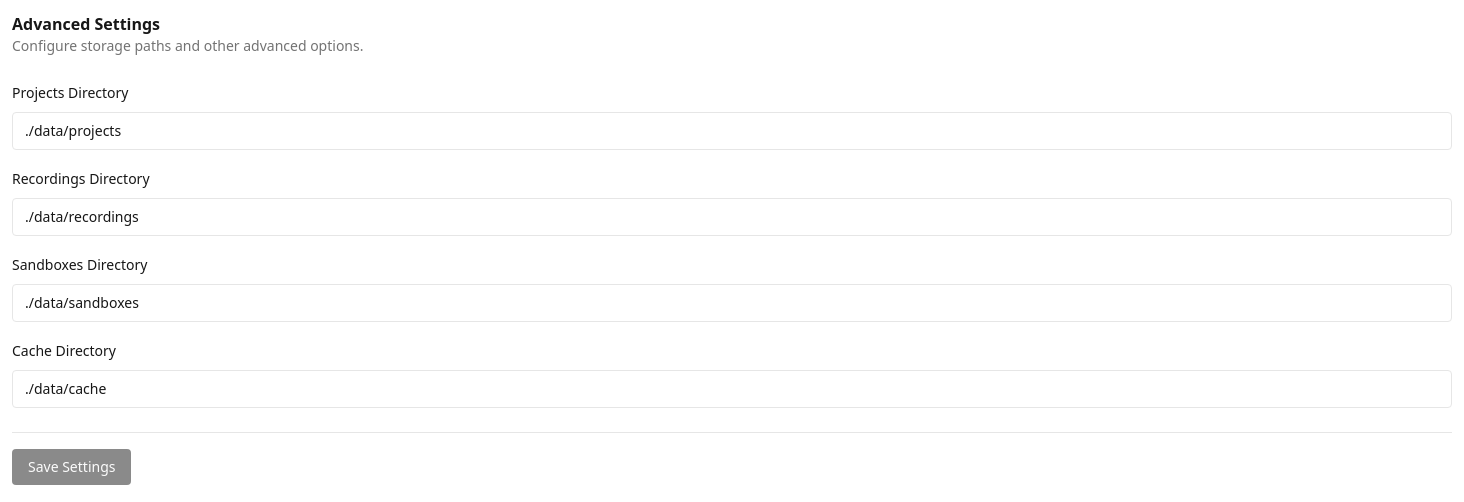
Test: AdvancedSection › should enable Save button when a path is changed
The image size is (1464, 502).
Replace the text in the field below "Projects Directory" with "/new/path". click: coordinates (732, 131)
box: 12,112 -> 1452,150
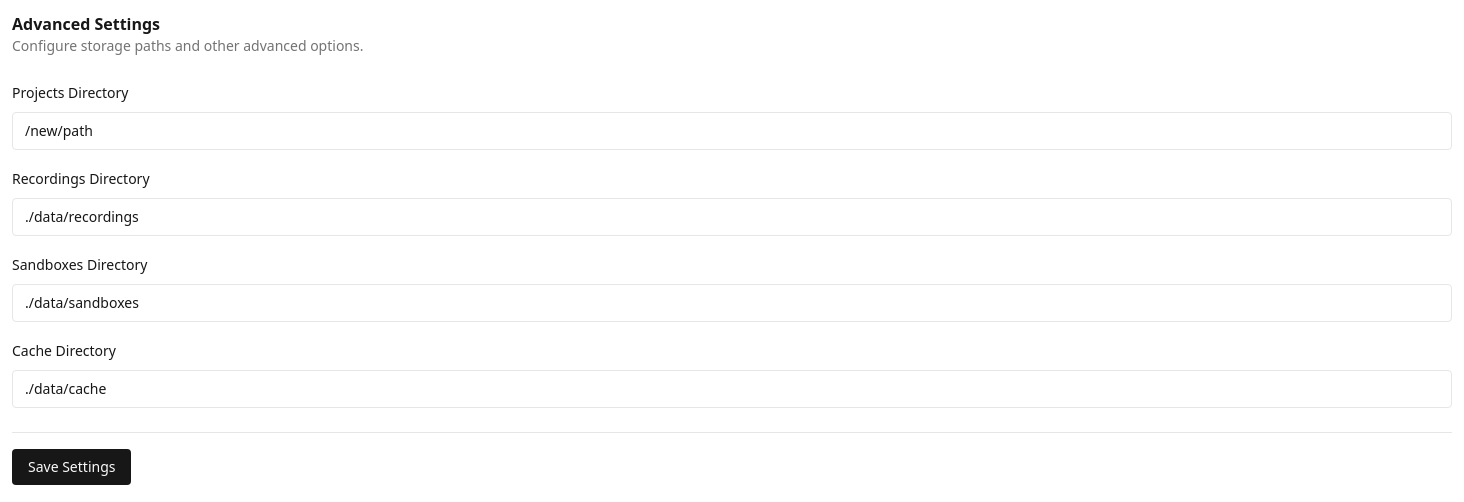
Expected: the button "Save Settings" is enabled, 12,449 -> 132,485
